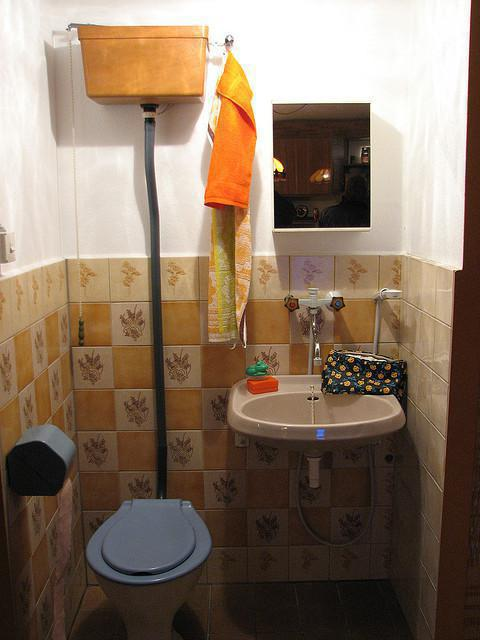Lavamanos: (214, 301, 407, 457)
Sanitario: (77, 485, 214, 639)
